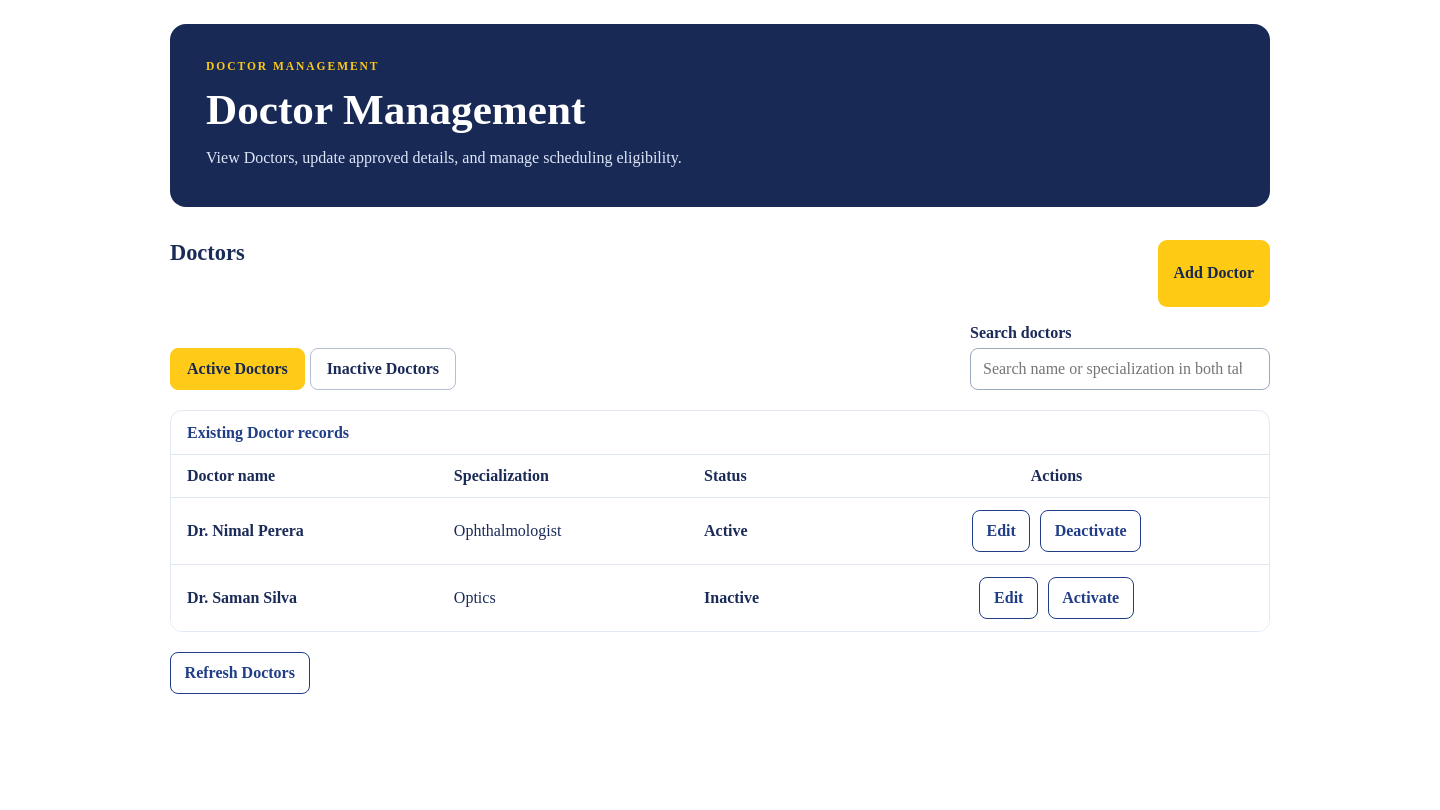
it: Doctor Management (DDP-094 Phase 6) › prepopulates edit fields and rejects unchanged data
Click the button named "Edit Dr. Nimal Perera" at (1001, 531), box [972,510,1030,552]
(page scrolled)
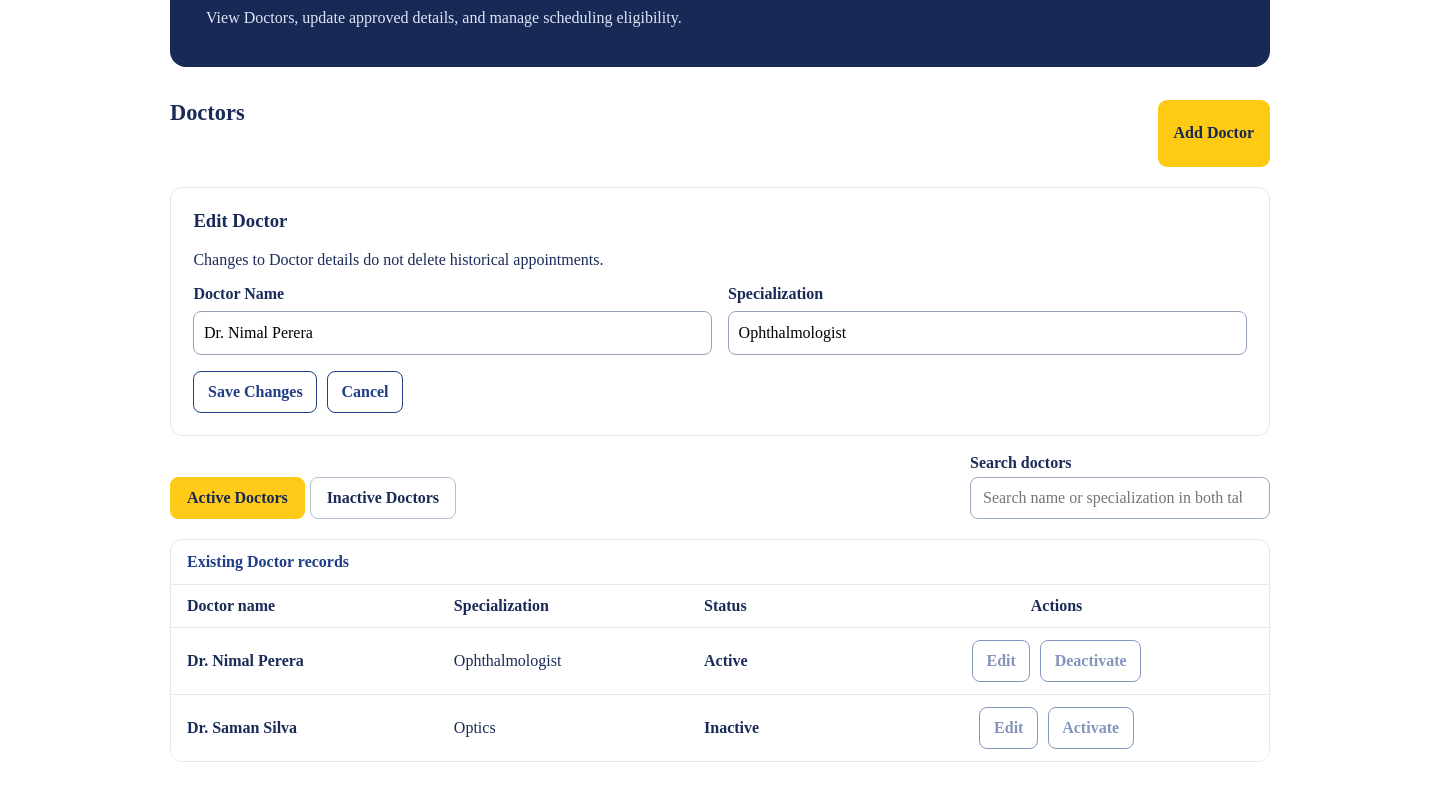
Check: the field labelled "Doctor Name" holds "Dr. Nimal Perera", box [193,311,712,355]
Check: the field labelled "Specialization" holds "Ophthalmologist", box [728,311,1247,355]
Click the button "Save Changes" at (255, 392), box [193,371,317,413]
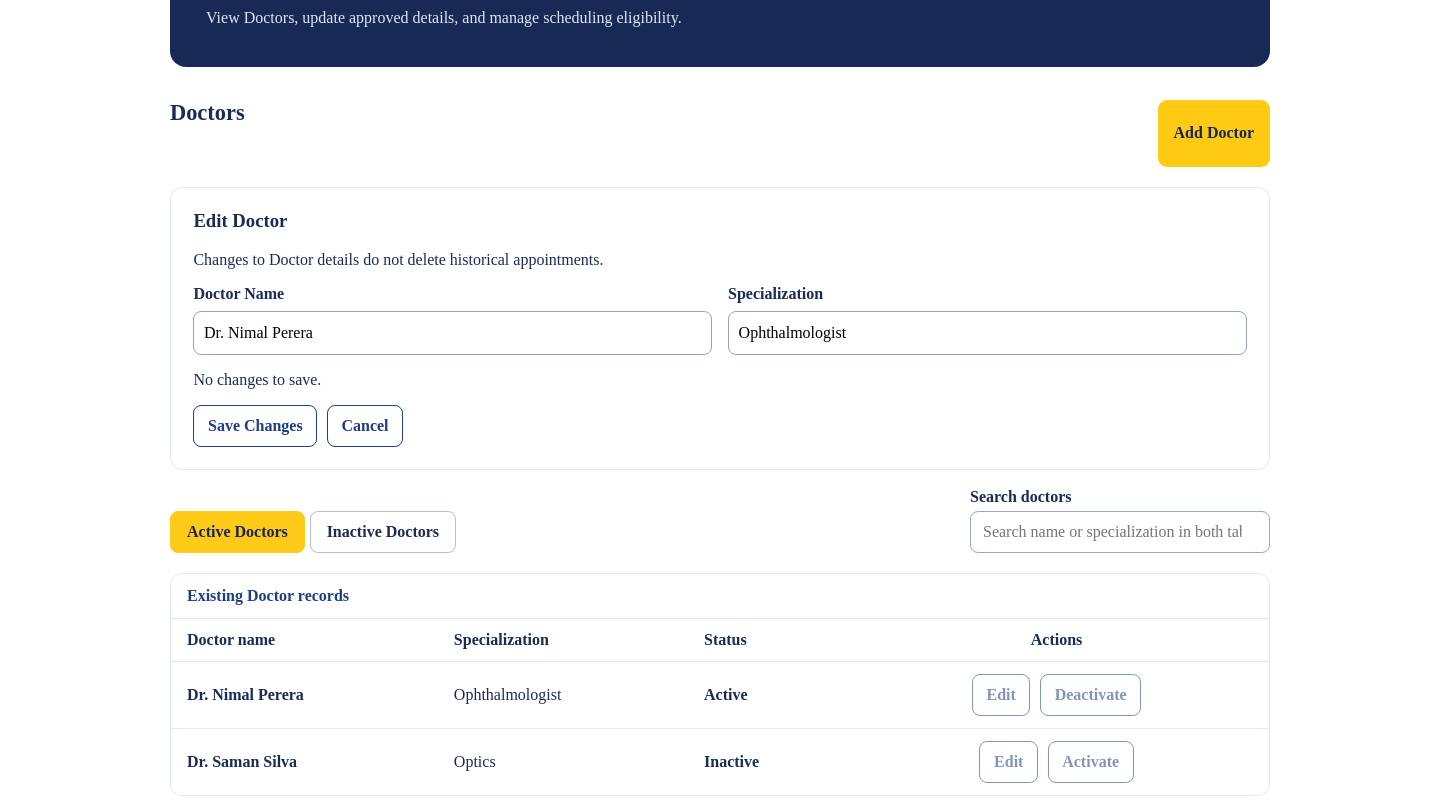
Check: the text "No changes to save." is shown, box [193,371,321,388]
